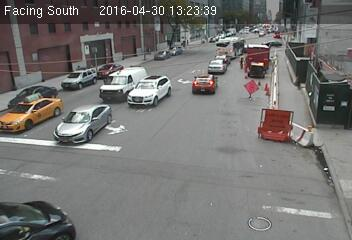neg: (241, 74, 262, 101), (236, 56, 247, 72), (273, 27, 281, 39)
